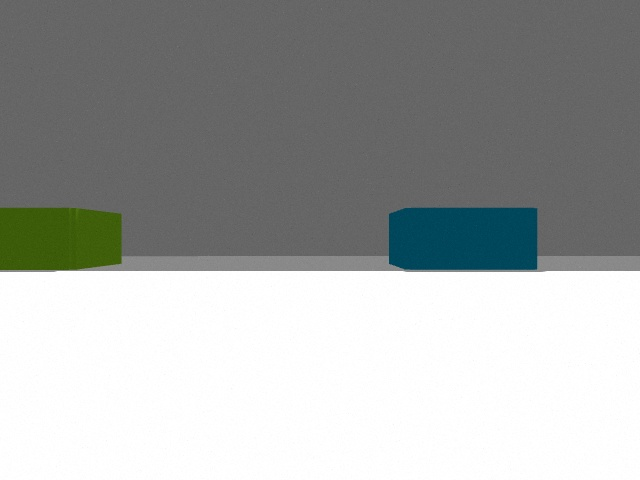blue_drop_zone: (389, 208, 537, 270)
green_drop_zone: (0, 208, 122, 270)
